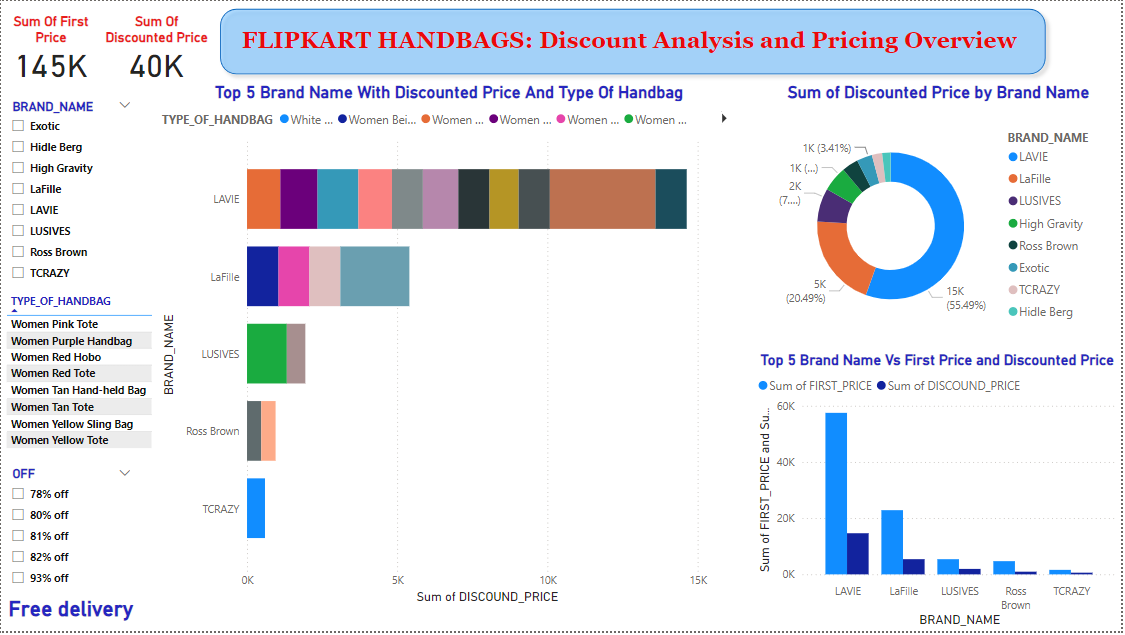

Layout of this report page (visuals, bound fields, positions):
{"tool":"powerbi","page":{"name":"Page 1","canvas":[1280,720],"ordinal":0},"visuals":[{"type":"shape","box":[241.4,0,961.4,92.9],"z":0},{"type":"textbox","box":[270,24.3,922.9,68.6],"z":1000},{"type":"slicer","fields":{"Values":["Handbag.brand_name"]},"box":[0,107.1,160,221.4],"z":2000},{"type":"slicer","fields":{"Values":["Handbag.OFF"]},"box":[0,527.1,160,151.4],"z":3000},{"type":"card","title":"Sum Of First Price","fields":{"Values":["Sum(Handbag.FIRST_PRICE)"]},"box":[0,14.3,114.3,78.6],"z":4000},{"type":"card","title":"Sum Of Discounted Price","fields":{"Values":["Sum(Handbag.DISCOUND_PRICE)"]},"box":[114.3,14.3,127.1,78.6],"z":5000},{"type":"card","fields":{"Values":["Min(Handbag.DELIVERY_OPTION)"]},"box":[0,668.6,160,51.4],"z":6000},{"type":"tableEx","title":"Type ","fields":{"Values":["Handbag.NATURE_OF_BAG"]},"box":[0,328.6,190,198.6],"z":7000},{"type":"donutChart","title":"Sum of Discounted Price by Brand Name","fields":{"Category":["Handbag.BRAND_NAME"],"Y":["Sum(Handbag.DISCOUND_PRICE)"]},"box":[878.6,92.9,385.7,307.1],"z":8000},{"type":"barChart","title":"Top 5 Brand Name With  Discounted Price And Type Of Handbag","fields":{"Category":["Handbag.BRAND_NAME"],"Y":["Sum(Handbag.DISCOUND_PRICE)"],"Series":["Handbag.TYPE_OF_HANDBAG"]},"box":[178.6,92.9,667.1,601.4],"z":9000},{"type":"clusteredColumnChart","title":"Top 5 Brand Name Vs First Price and Discounted Price","fields":{"Category":["Handbag.BRAND_NAME"],"Y":["Sum(Handbag.FIRST_PRICE)","Sum(Handbag.DISCOUND_PRICE)"]},"box":[860,400,420,320],"z":10000}]}

Visuals, with their boxes in screenshot pixels (x1, y1, x2, y2), scaled from the page's 1280x720 canvas onto the 1125x635 screenshot:
shape: <box>212,0,1057,82</box>
textbox: <box>237,21,1048,82</box>
slicer - Handbag.brand_name: <box>0,94,141,290</box>
slicer - Handbag.OFF: <box>0,465,141,598</box>
"Sum Of First Price" card: <box>0,13,100,82</box>
"Sum Of Discounted Price" card: <box>100,13,212,82</box>
card - Min(Handbag.DELIVERY_OPTION): <box>0,590,141,634</box>
"Type " tableEx: <box>0,290,167,465</box>
"Sum of Discounted Price by Brand Name" donutChart: <box>772,82,1111,353</box>
"Top 5 Brand Name With  Discounted Price And Type Of Handbag" barChart: <box>157,82,743,612</box>
"Top 5 Brand Name Vs First Price and Discounted Price" clusteredColumnChart: <box>756,353,1124,634</box>
